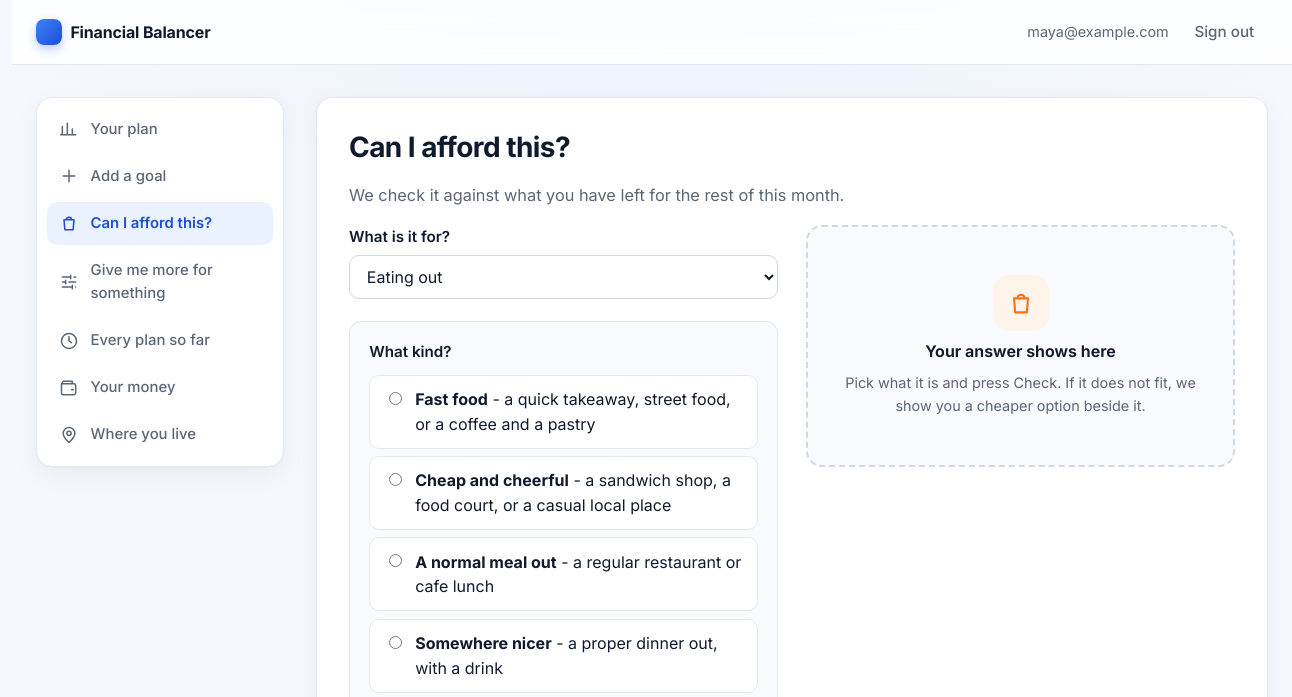
it: can I afford this? › says where the price came from
The image size is (1292, 697).
Click the radio button labelled "A normal meal out - a regular restaurant or cafe lunch" at [395, 561], box [389,554,402,567]
(page scrolled)
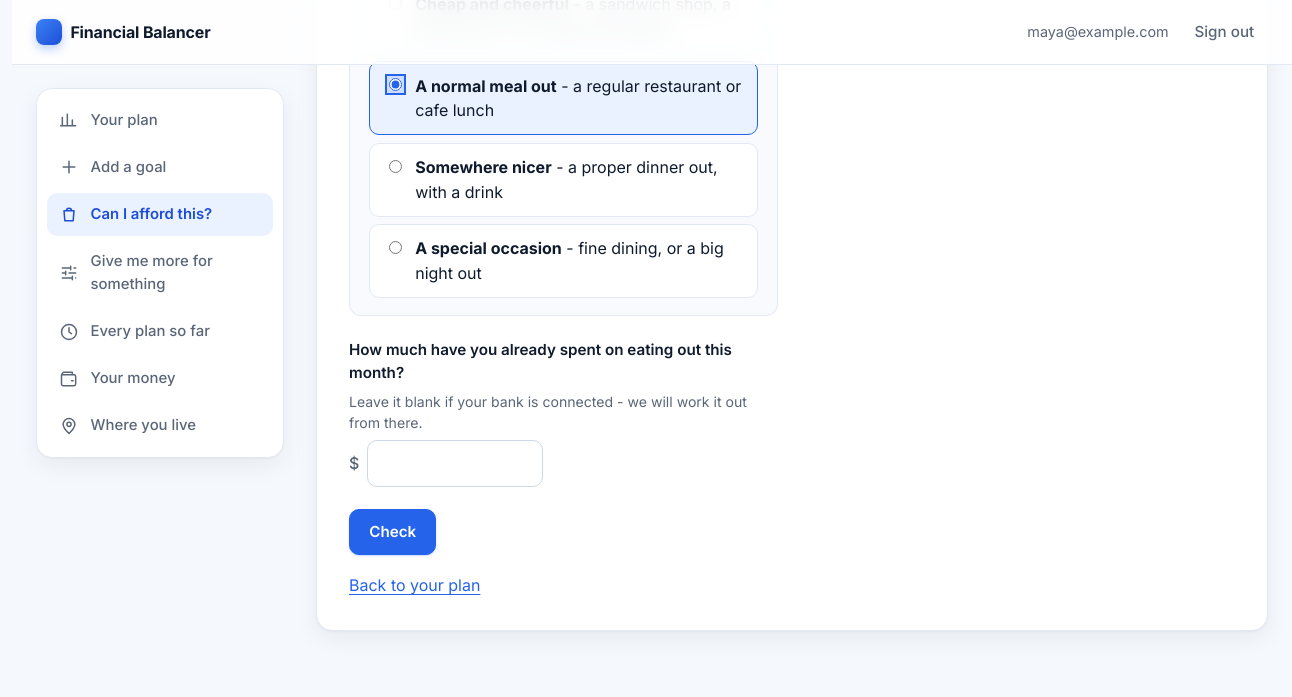
Type "120" into the field labelled "How much have you already spent on eating out this month?" at [455, 464], box [367,440,543,487]
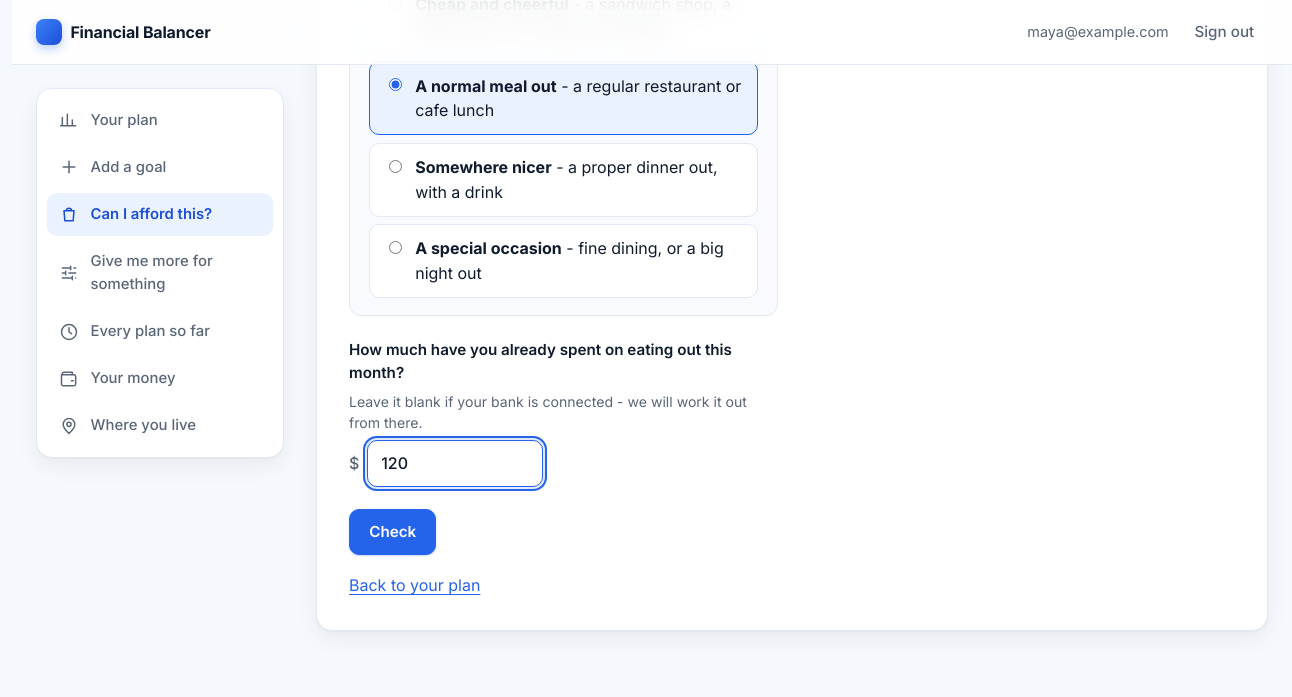
Click the button "Check" at [393, 532], box [349,509,436,555]
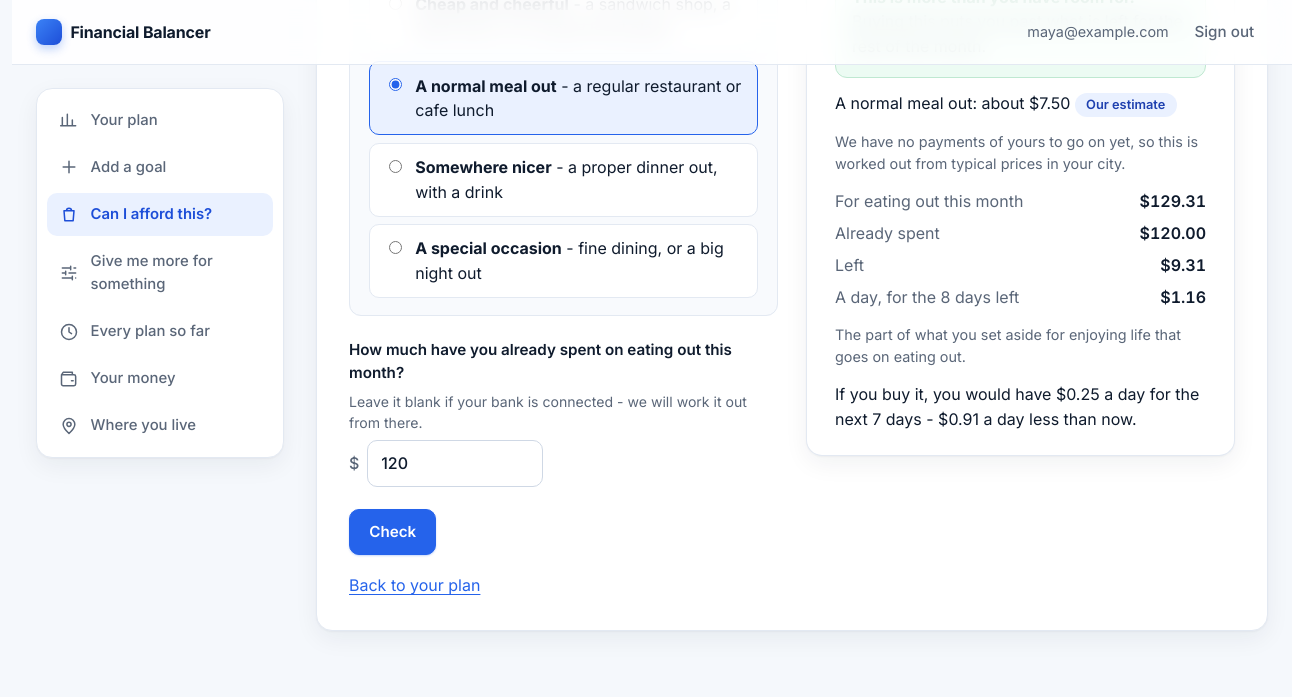
Check: the text "Our estimate" is shown, box [1075,93,1177,117]
Check: the text "We have no payments of yours to go on yet, so this is worked out from typical prices in your city." is shown, box [835,133,1198,172]
